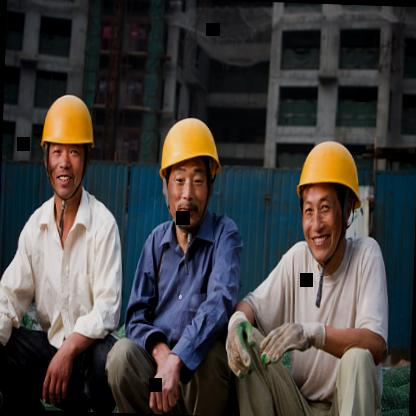helmet: (286, 128, 368, 271), (150, 100, 230, 239), (28, 76, 104, 210)
